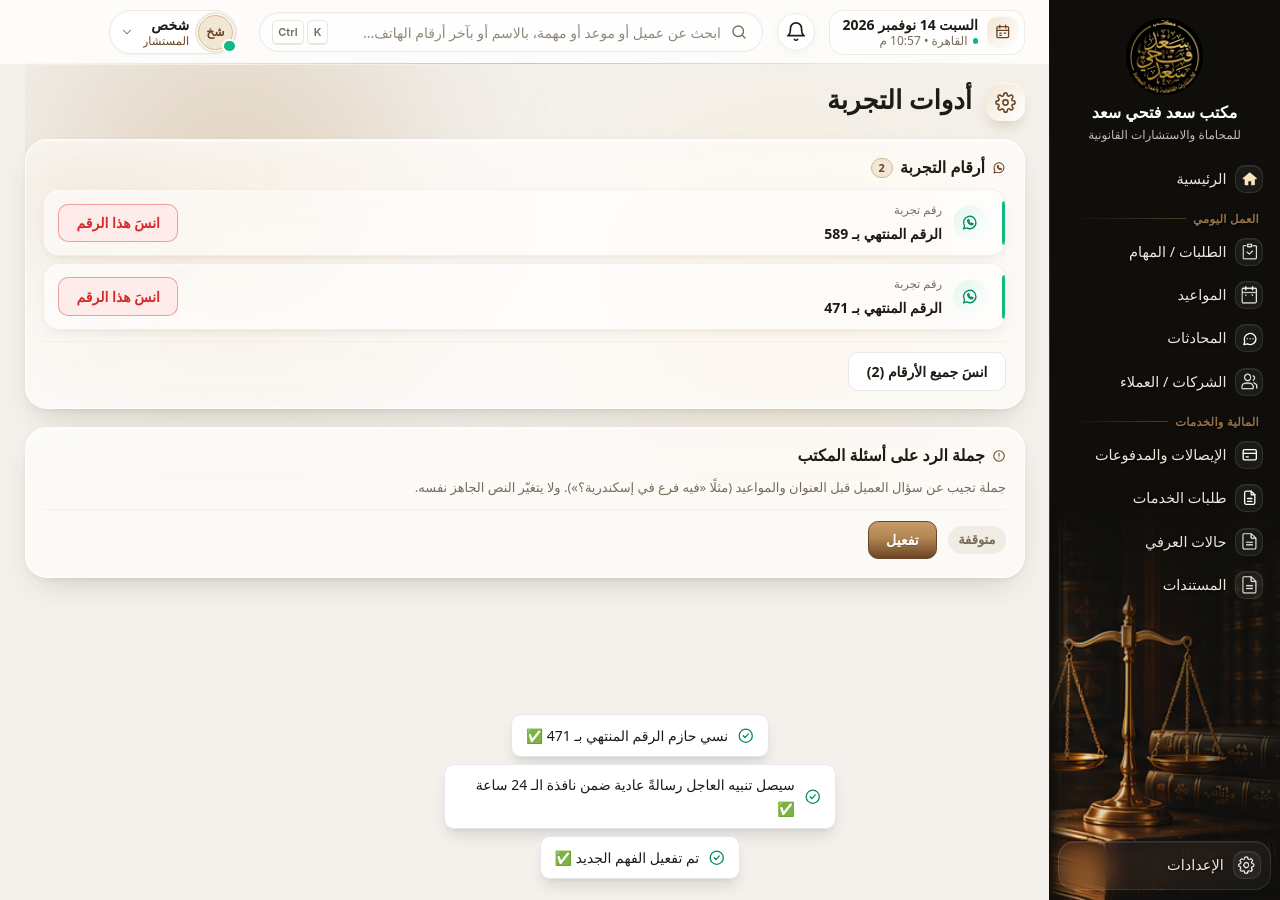
Test case: أدوات التجربة › v1.61: the sentence before the address and hours is switched on after asking
The image size is (1280, 900).
What coordinates should you click on to do the following:
click the button "تفعيل"
I would click on:
 (902, 540)
Its box is [868, 521, 937, 559].
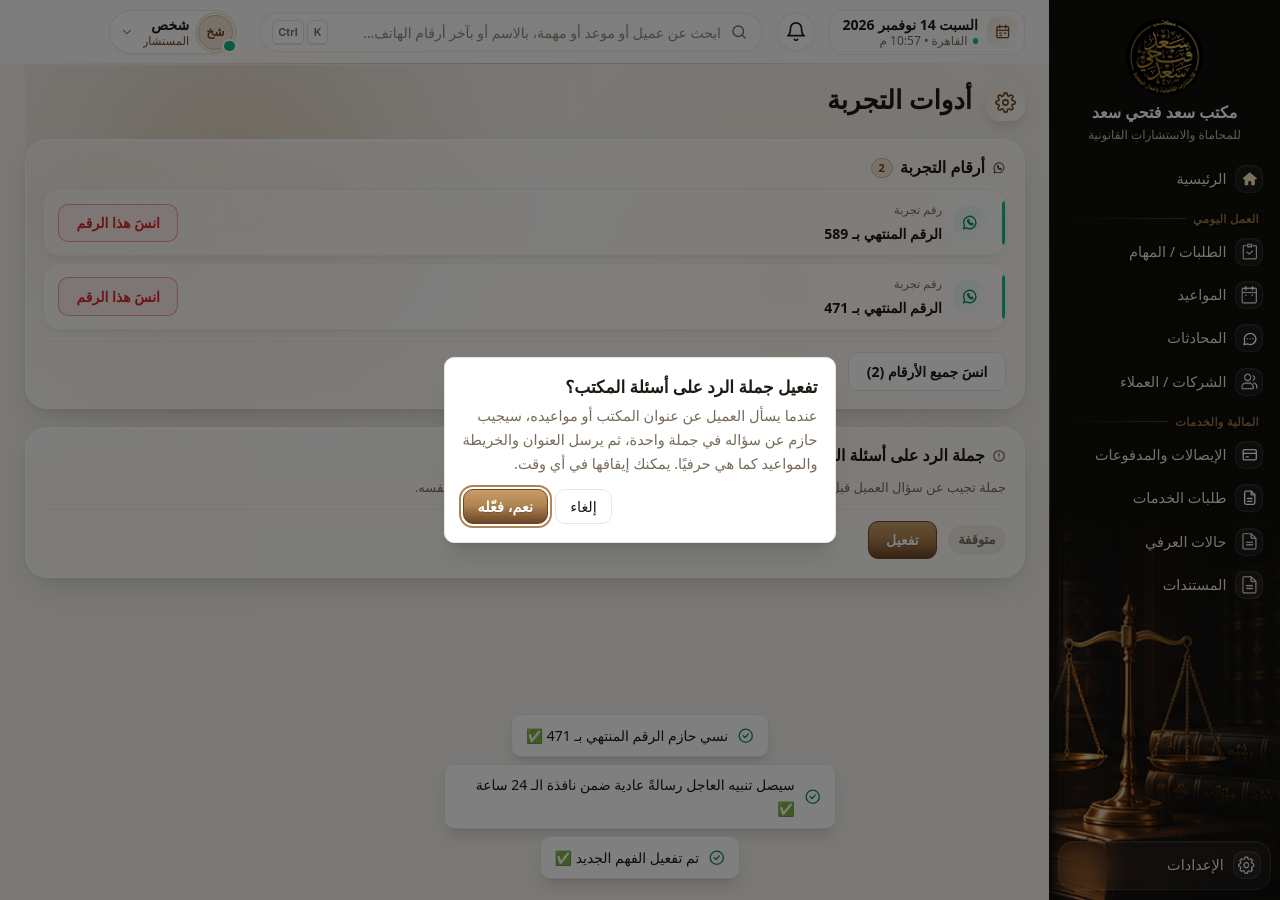
What coordinates should you click on to do the following:
click the button "نعم، فعّله"
I would click on:
 (505, 507)
Its box is [462, 490, 548, 524].
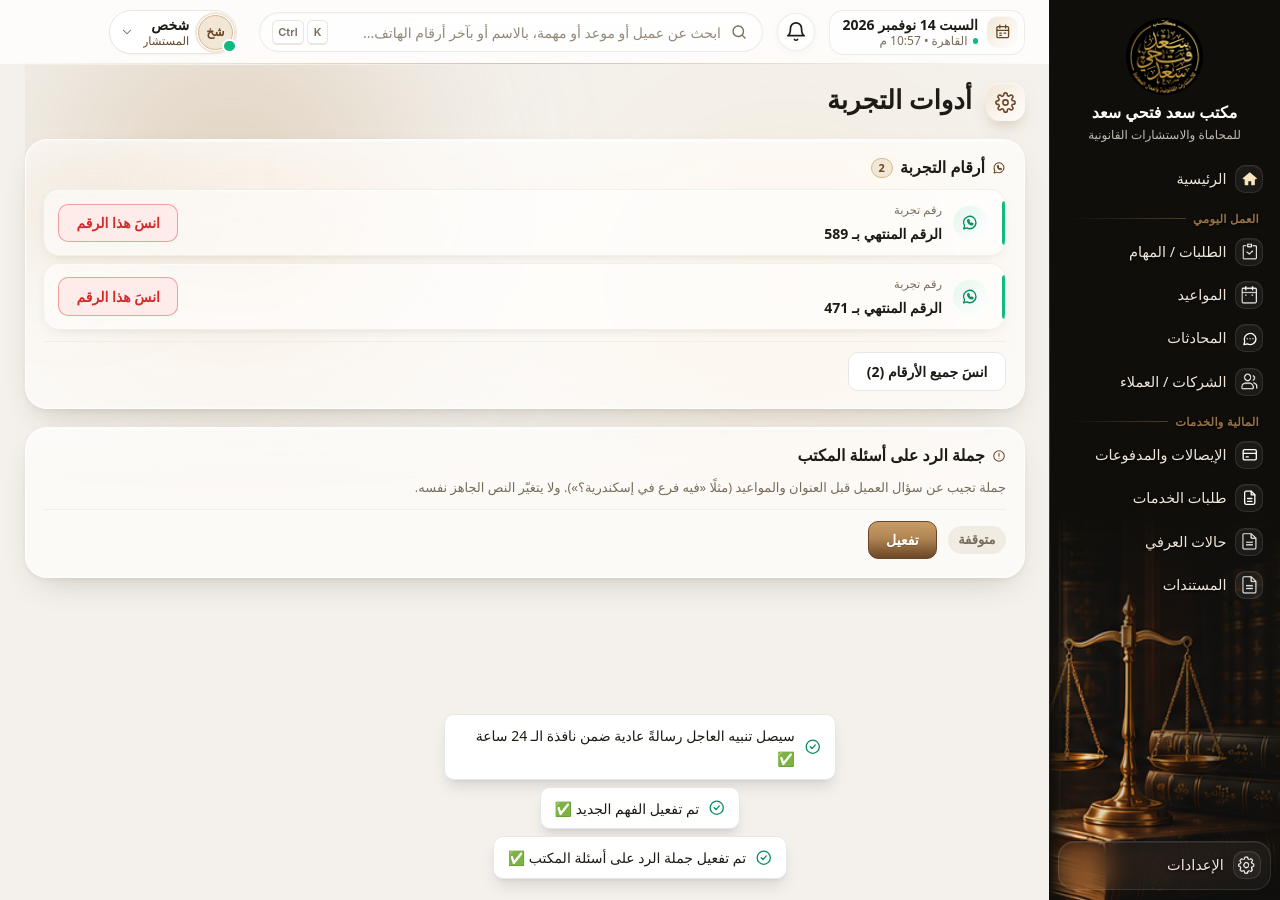
Result: the text "تم تفعيل جملة الرد على أسئلة المكتب ✅" is shown at [493, 836, 787, 879]
